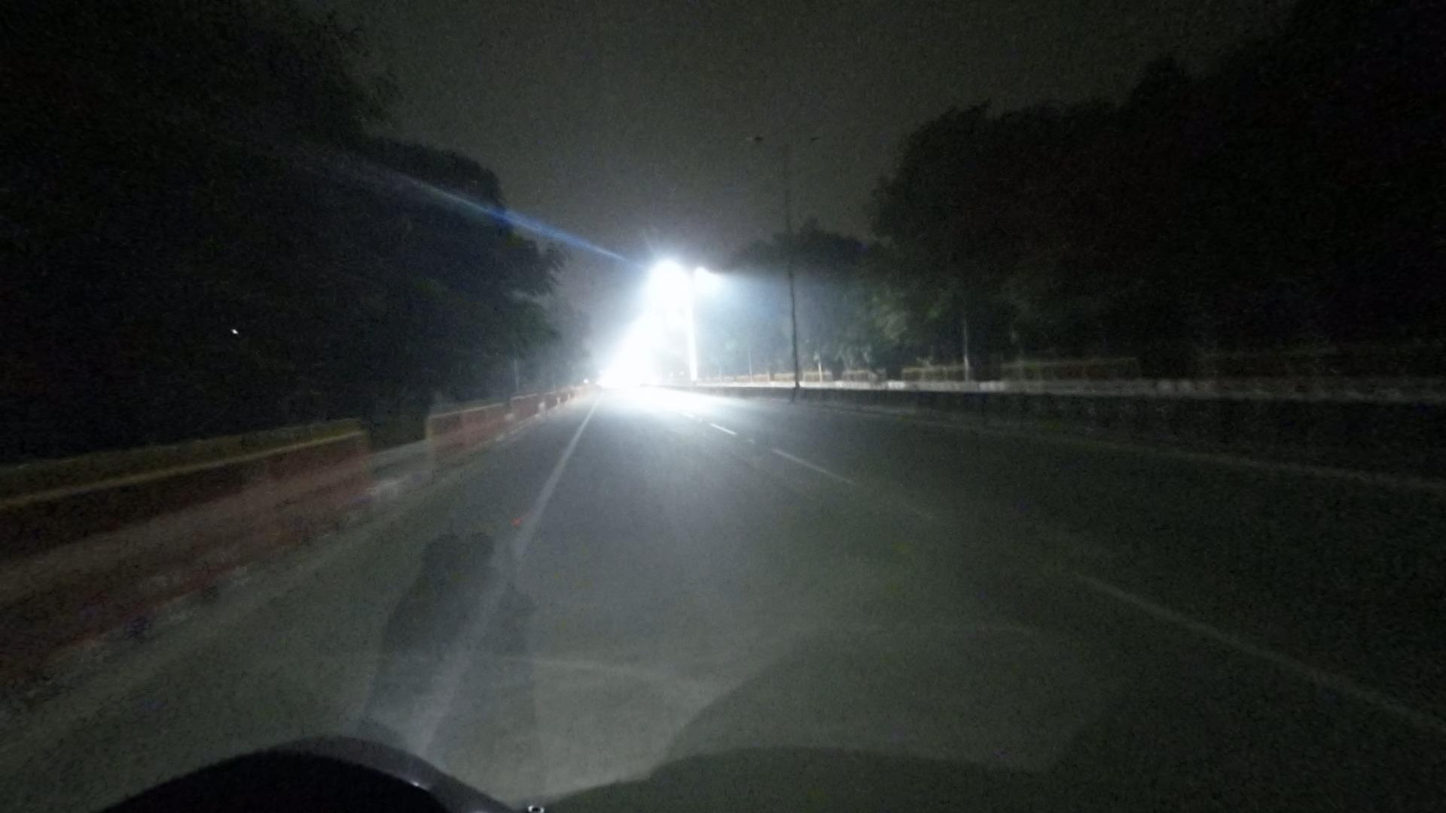streetlight: (745, 131, 784, 147), (790, 135, 821, 145)
